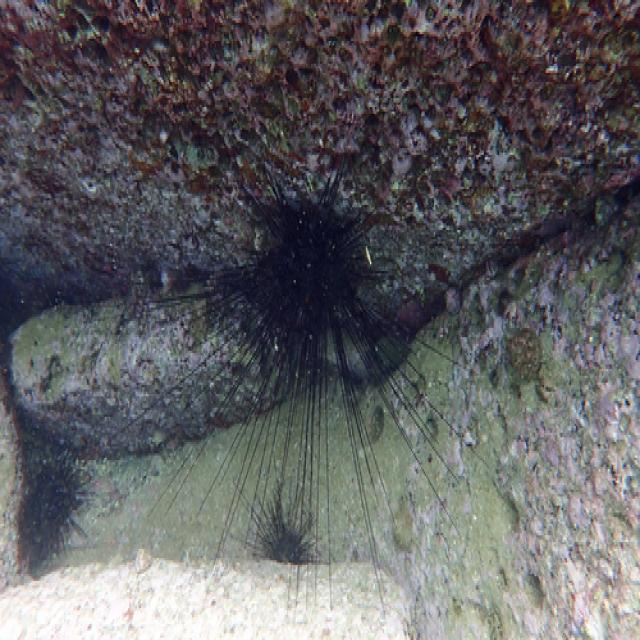Urchin: (106, 164, 475, 619)
